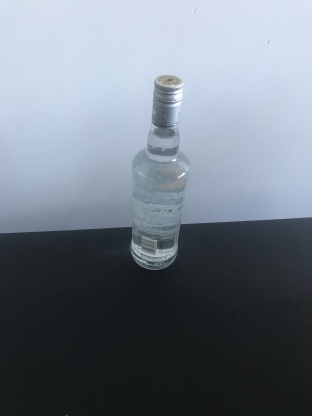nakretka: (150, 72, 184, 129)
